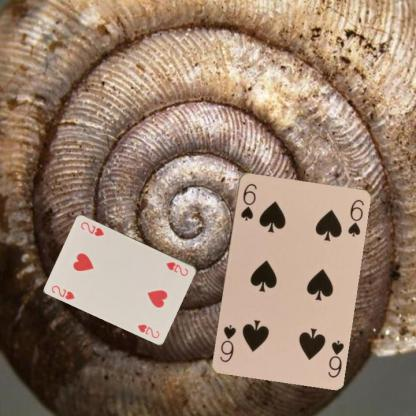2h: (49, 283, 76, 301), (164, 259, 190, 277)
6s: (238, 180, 258, 222), (325, 337, 345, 379)
